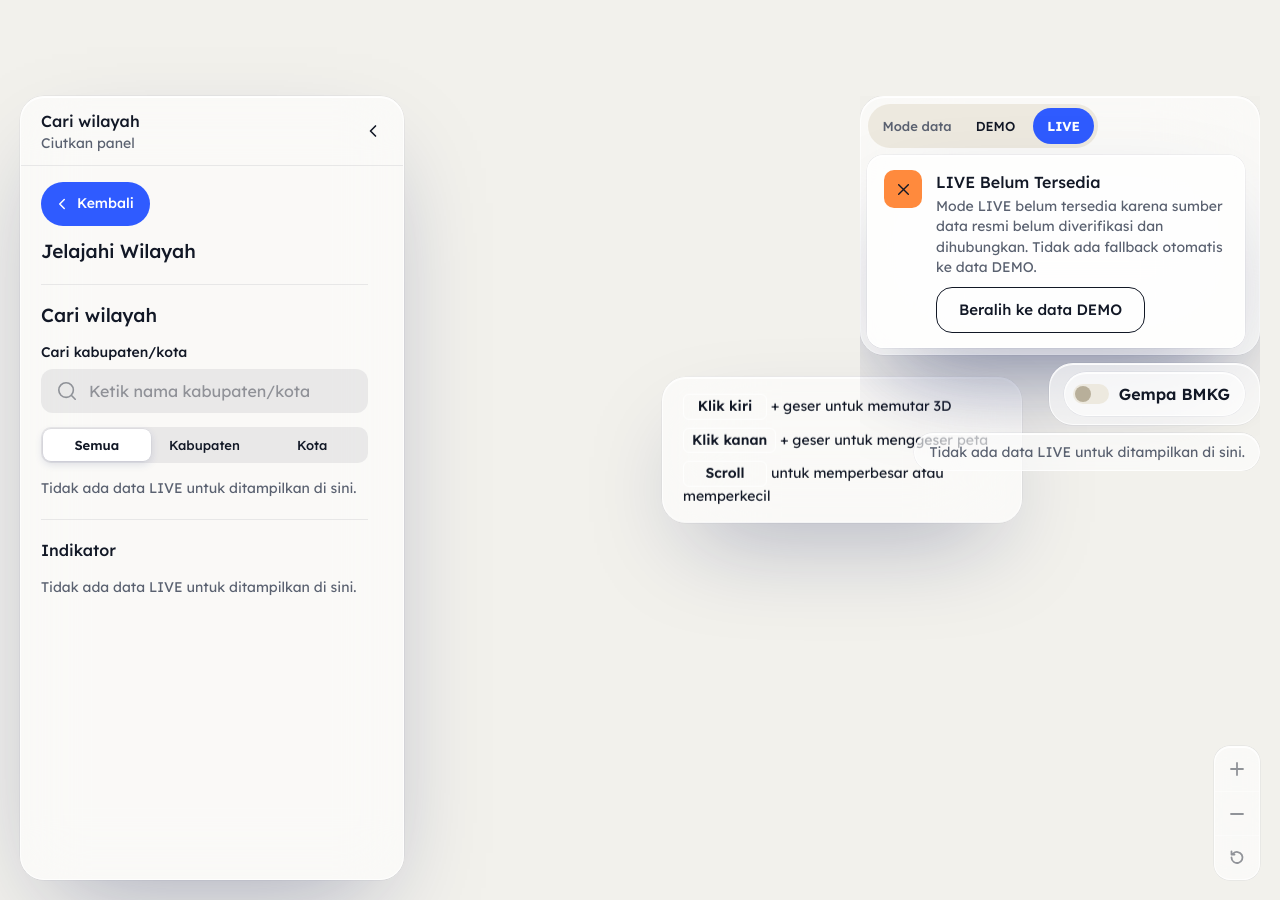
Test: LIVE unavailable through http-503: the captured HTTP 503 › returns to DEMO on request: the message goes away and the DEMO data loads again
Click the button "Beralih ke data DEMO" at (1041, 310), box [936,287,1145,333]
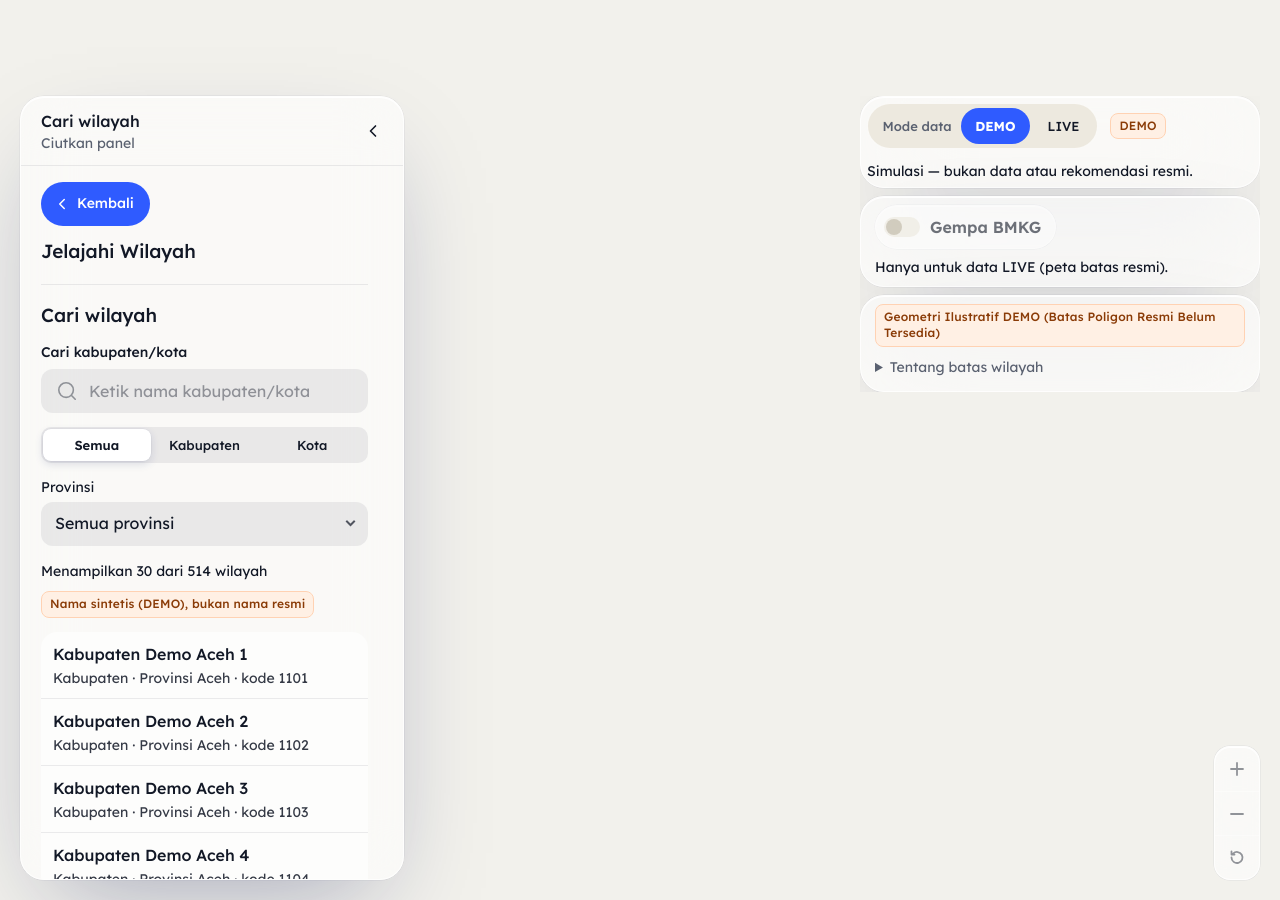
expect the text "Menampilkan 30 dari 514 wilayah" is shown: met, box [41,560,267,583]
expect the text "Tidak ada data LIVE untuk ditampilkan di sini." is gone: met
expect the text "LIVE Belum Tersedia" is gone: met
